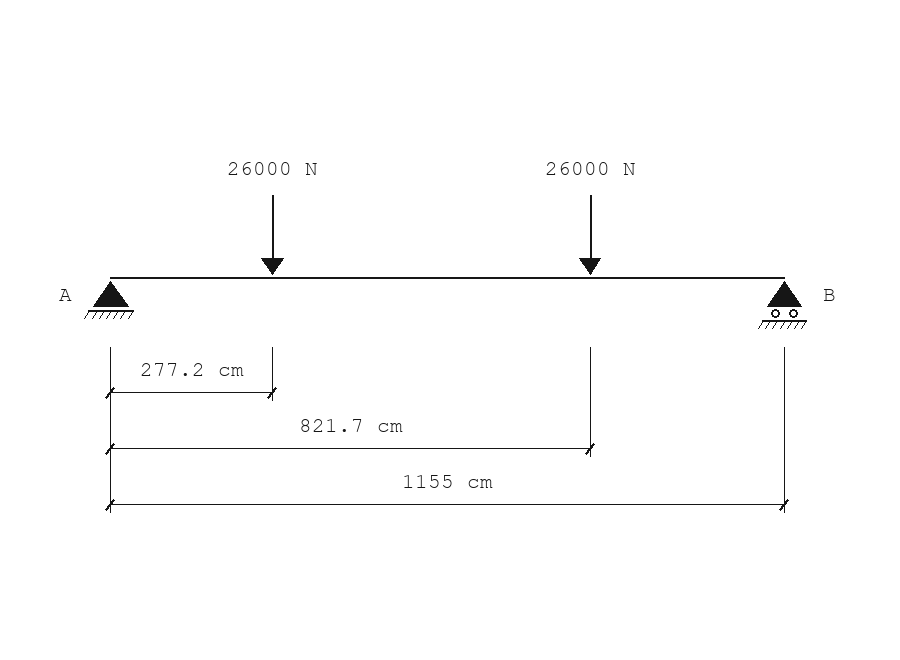pin_support: (84, 281, 134, 319)
point_load: (261, 195, 284, 275), (579, 195, 601, 275)
roller_support: (758, 281, 807, 329)
